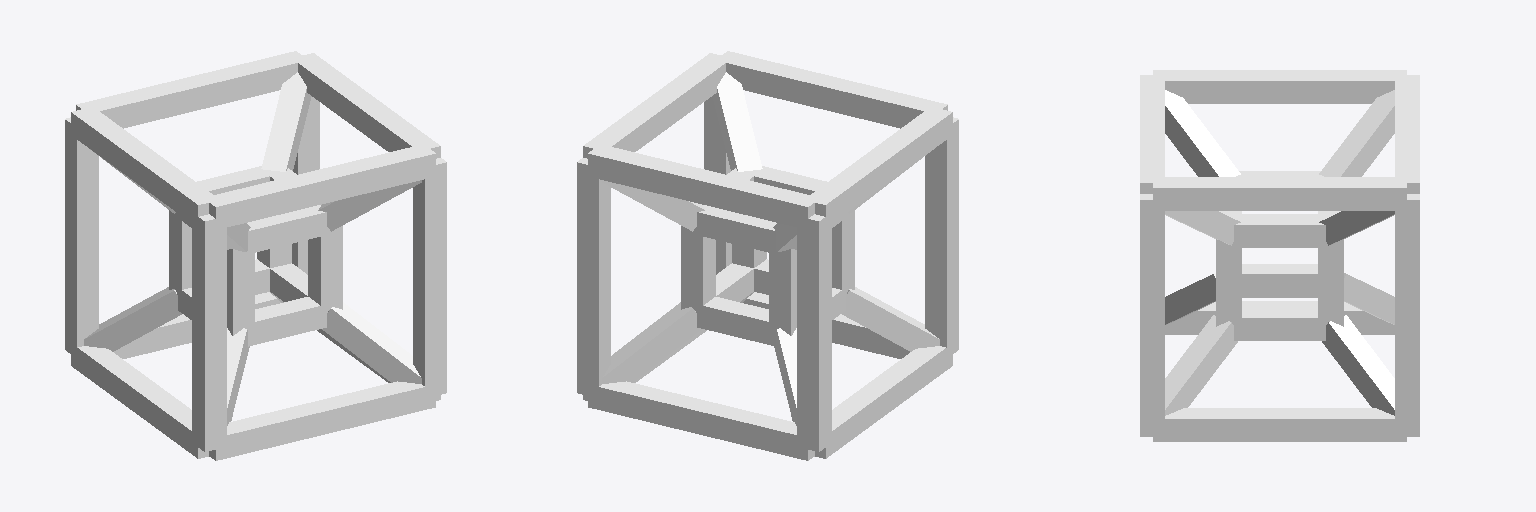
Rendered from tesseract.obj.
3 renders of one model, left to right at view 1: azimuth 30°, elevation 25°; view 2: azimuth 150°, elevation 25°; view 3: azimuth 270°, elevation 25°, orthographic.
Visible parts, largest first — view 1: 4, 12, 8, 1, 3, 10, 11, 9, 7, 25, 30, 27 (+13 smaller); view 2: 3, 10, 2, 6, 4, 12, 11, 7, 9, 26, 29, 28 (+13 smaller); view 3: 9, 5, 11, 1, 2, 25, 26, 31, 32, 21, 12, 17 (+9 smaller).
Boxes of the visible parts, x1,y1,x2,y2 form: 4: [192, 213, 226, 451]; 12: [205, 145, 435, 228]; 8: [209, 381, 435, 460]; 1: [413, 158, 446, 395]; 3: [65, 117, 98, 357]; 10: [76, 51, 302, 128]; 11: [71, 107, 219, 222]; 9: [292, 53, 440, 158]; 7: [71, 344, 208, 458]; 25: [322, 302, 421, 383]; 30: [261, 72, 311, 171]; 27: [84, 287, 181, 351]; 3: [797, 213, 831, 451]; 10: [588, 146, 819, 229]; 2: [577, 158, 610, 397]; 6: [588, 381, 814, 460]; 4: [925, 117, 958, 357]; 12: [721, 51, 947, 128]; 11: [804, 107, 952, 223]; 7: [815, 343, 952, 458]; 9: [583, 53, 731, 158]; 26: [602, 302, 701, 383]; 29: [712, 72, 762, 171]; 28: [842, 287, 939, 351]; 9: [1153, 177, 1406, 210]; 5: [1153, 408, 1406, 441]; 11: [1153, 70, 1406, 103]; 1: [1140, 194, 1164, 430]; 2: [1395, 194, 1419, 430]; 25: [1165, 315, 1237, 415]; 26: [1322, 315, 1394, 415]; 31: [1319, 90, 1394, 176]; 32: [1165, 90, 1240, 176]; 21: [1229, 214, 1330, 247]; 12: [1140, 75, 1164, 193]; 17: [1234, 307, 1325, 340].
Size of the model in its own units: 1.1 by 1.1 by 1.1.